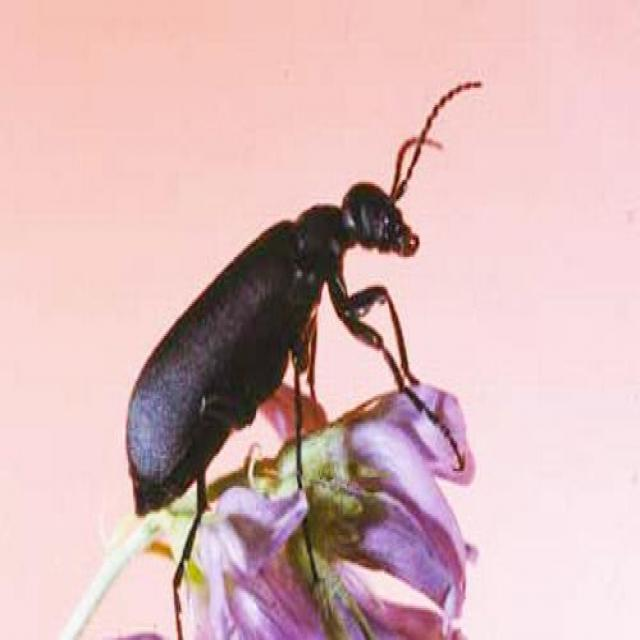BlisterBeetle-Adult-: (113, 75, 490, 537)
